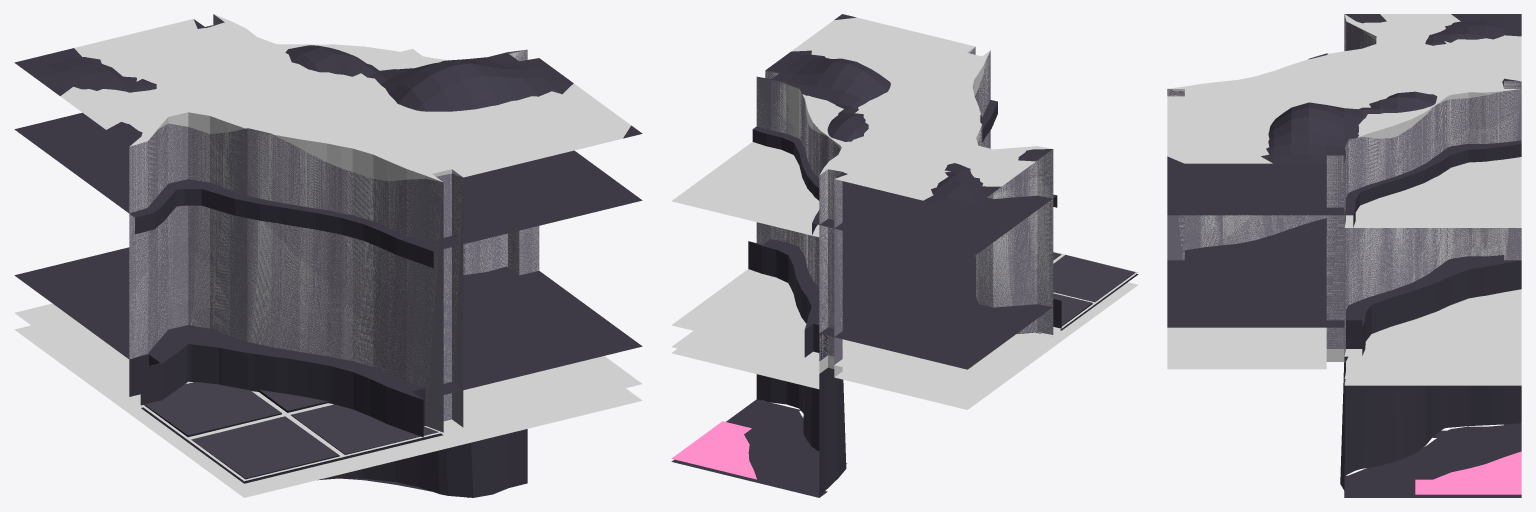
File: Tile_WLWF.fbx
3 renders of one model, left to right at view 1: azimuth 30°, elevation 25°; view 2: azimuth 150°, elevation 25°; view 3: azimuth 270°, elevation 25°, orthographic. The views are drawn at different scales.
Parts seen in each view (by area): view 1: Tile_WLWF, Tile_WLWF_ColWall, Tile_WLWF_ColGround; view 2: Tile_WLWF, Tile_WLWF_ColWall, Tile_WLWF_ColCrackBlocker, Tile_WLWF_ColGround, Tile_WLWF_ColCrackSurface; view 3: Tile_WLWF, Tile_WLWF_ColWall, Tile_WLWF_ColCrackBlocker, Tile_WLWF_ColGround, Tile_WLWF_ColCrackSurface.
Part boxes in pixels (x1,y1,x2,y2): Tile_WLWF: [14, 14, 642, 497]; Tile_WLWF_ColWall: [16, 14, 640, 427]; Tile_WLWF_ColGround: [14, 304, 642, 497]; Tile_WLWF: [671, 14, 1138, 497]; Tile_WLWF_ColWall: [756, 17, 1053, 397]; Tile_WLWF_ColCrackBlocker: [671, 142, 819, 361]; Tile_WLWF_ColGround: [819, 251, 1138, 409]; Tile_WLWF_ColCrackSurface: [671, 331, 819, 389]; Tile_WLWF: [1167, 14, 1521, 497]; Tile_WLWF_ColWall: [1167, 14, 1521, 356]; Tile_WLWF_ColCrackBlocker: [1344, 157, 1521, 356]; Tile_WLWF_ColGround: [1167, 327, 1345, 369]; Tile_WLWF_ColCrackSurface: [1344, 356, 1521, 385].
Size of the model in its own units: 5 by 5.5 by 5.
